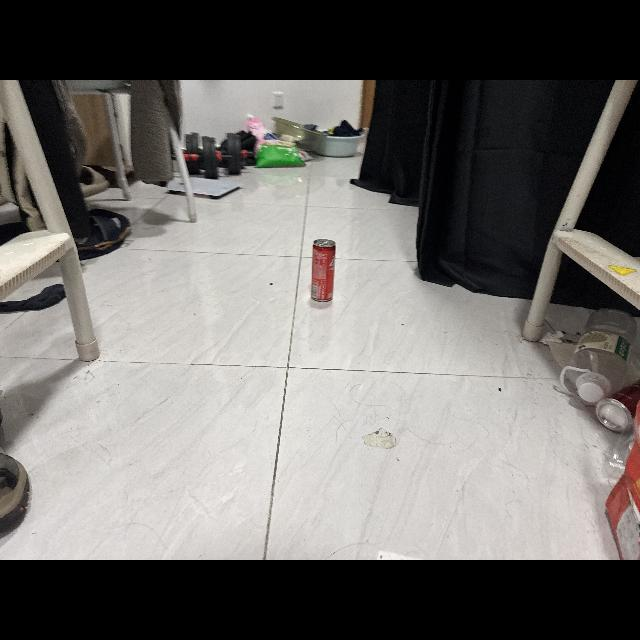Cola: (306, 236, 342, 308)
